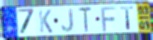7: (17, 8, 36, 37)
F: (100, 6, 118, 33)
J: (61, 8, 75, 34)
K: (38, 9, 54, 34)
T: (78, 7, 93, 34), (120, 6, 135, 31)
